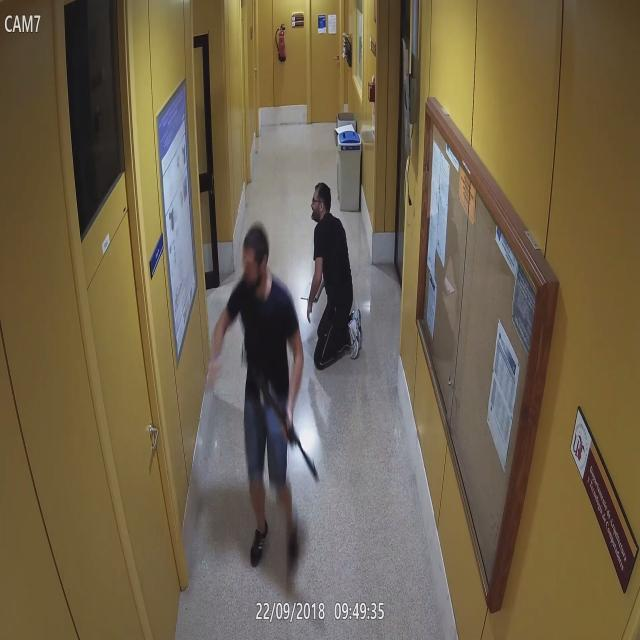pistol: (240, 337, 318, 479)
